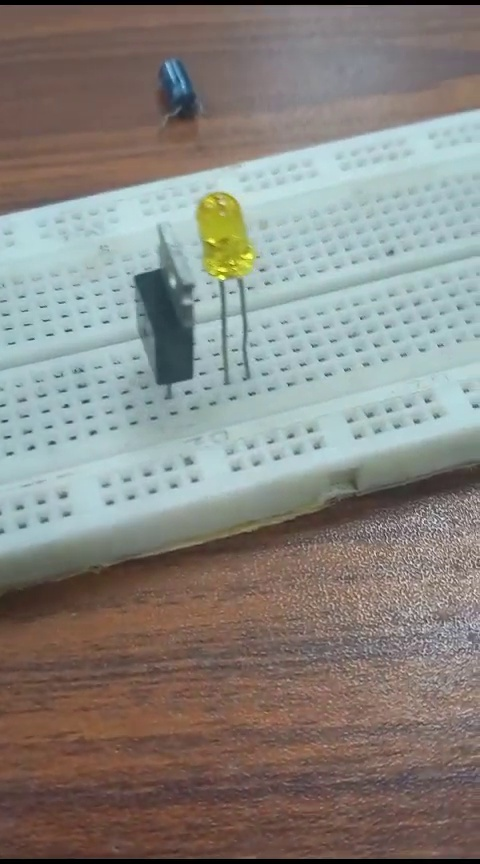LED: (191, 189, 267, 388)
voltage regulator: (116, 223, 196, 395)
